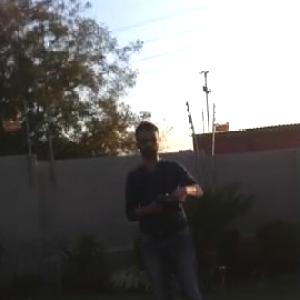follow: (119, 104, 211, 299)
